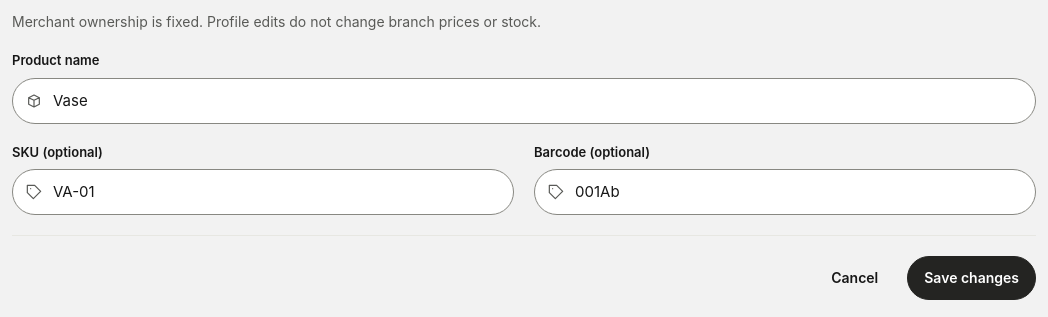
Test case: ProductForm › blocks dismissal controls and repeated writes while pending
The image size is (1048, 317).
Click the button "Save changes": (972, 278) [907,256,1036,300]
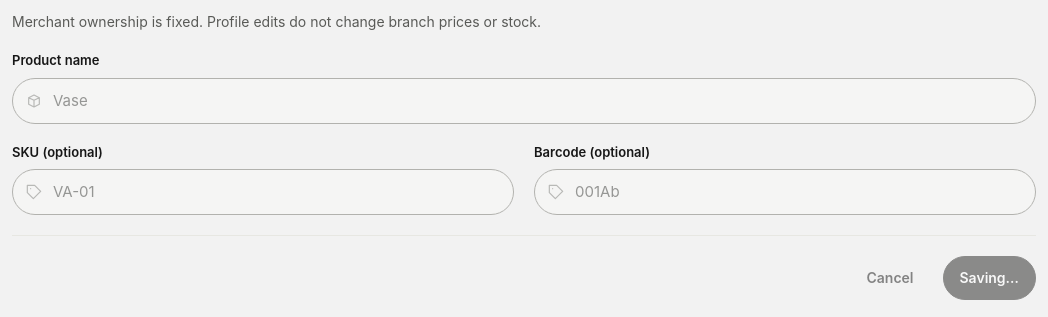
Result: the button "Saving…" is disabled at [942,256,1036,300]
Result: the button "Cancel" is disabled at [850,256,930,300]
Result: the field labelled "Product name" is disabled at [12,78,1036,124]
